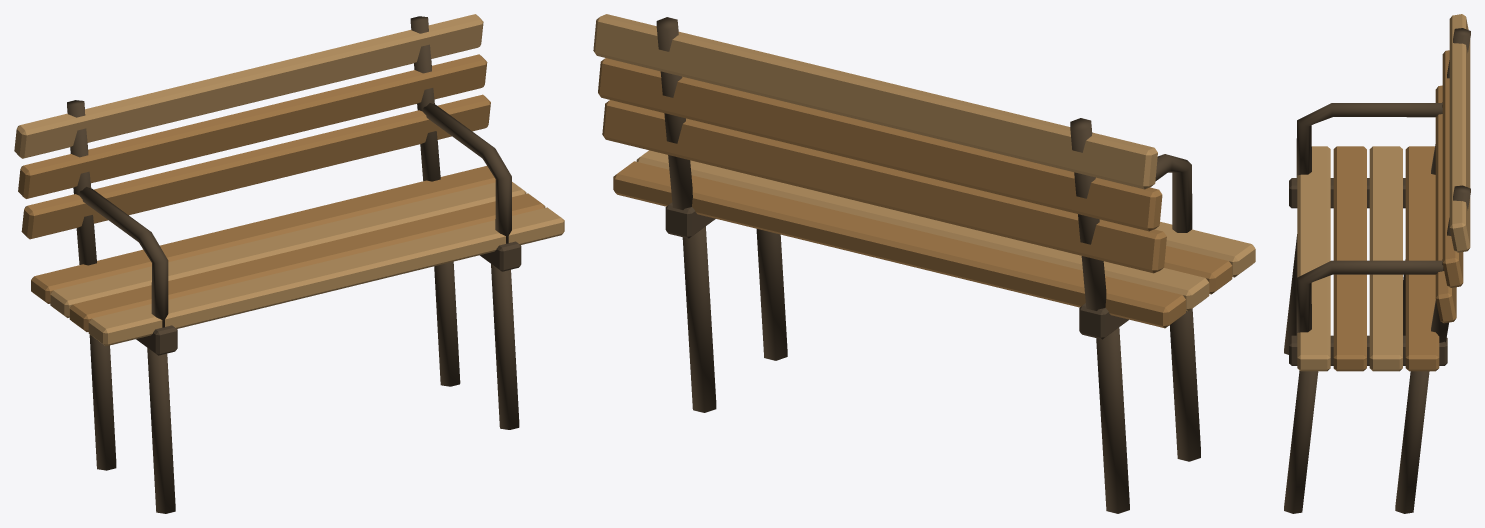
The model's file is bench_wood.glb.
3 views of the same model, side by side, from view 1: azimuth 30°, elevation 25°; view 2: azimuth 150°, elevation 25°; view 3: azimuth 270°, elevation 25° (orthographic). The views are drawn at different scales.
Visible parts, largest first — view 1: bench_wood; view 2: bench_wood; view 3: bench_wood.
Boxes of the visible parts, x1,y1,x2,y2 form: bench_wood: [14, 14, 564, 513]; bench_wood: [593, 14, 1255, 513]; bench_wood: [1284, 14, 1470, 513].
Bounding box in the file's own units: 1.8 × 1.28 × 0.6718.
